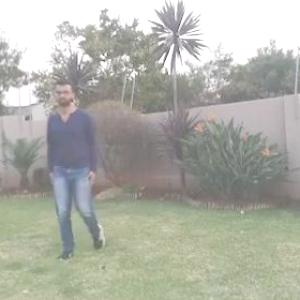follow: (48, 84, 94, 244)
